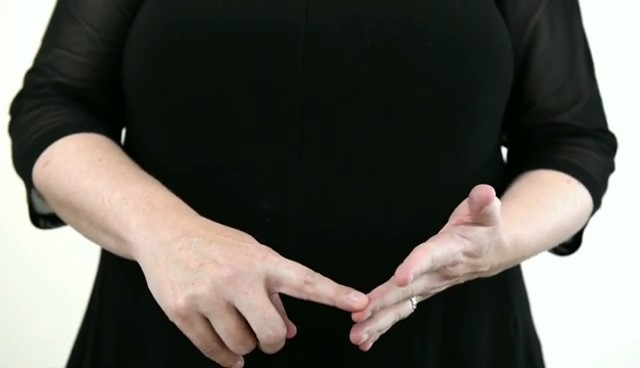I: (138, 177, 503, 365)
